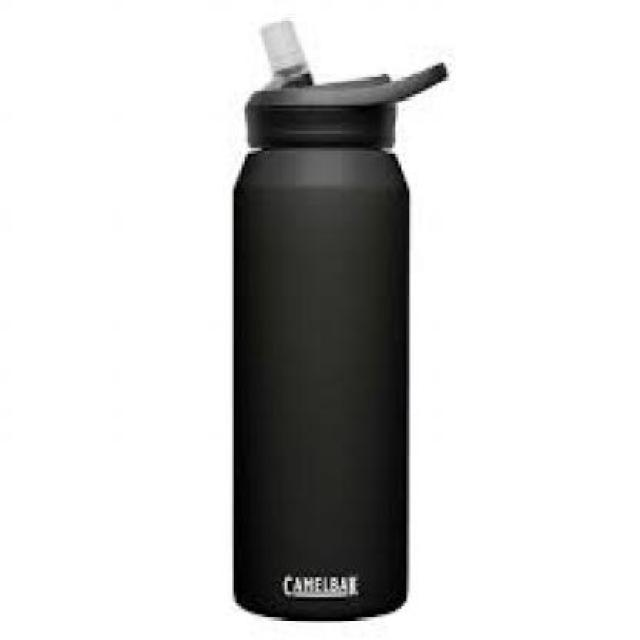Drinking: (198, 48, 449, 638)
